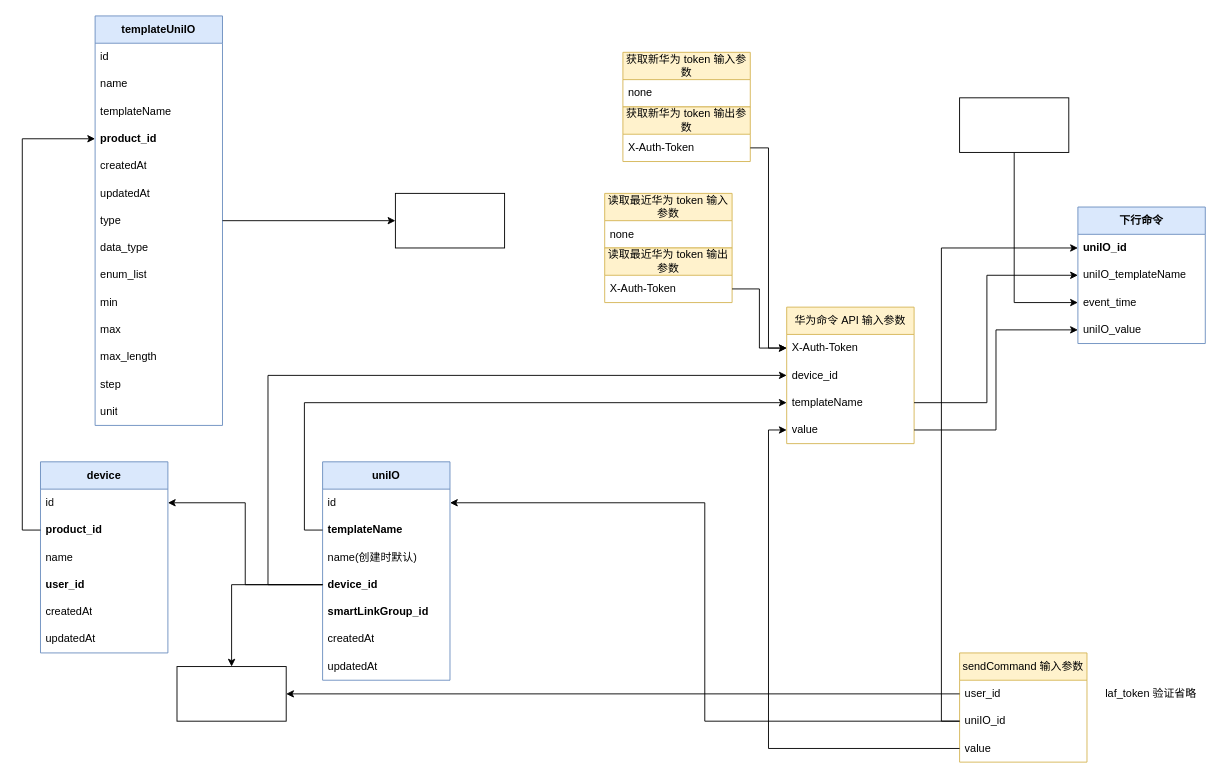
Some shapes in this 1221 by 778 pixel diagram are drawn without their labels. The centre of each missing label's shape, as x and y in pixels:
"uniIO 类型判断" goes at [449,220].
"user_id 与 device_id 匹配检查" goes at [231,693].
"获取实时时间 new Date" goes at [1014,124].
